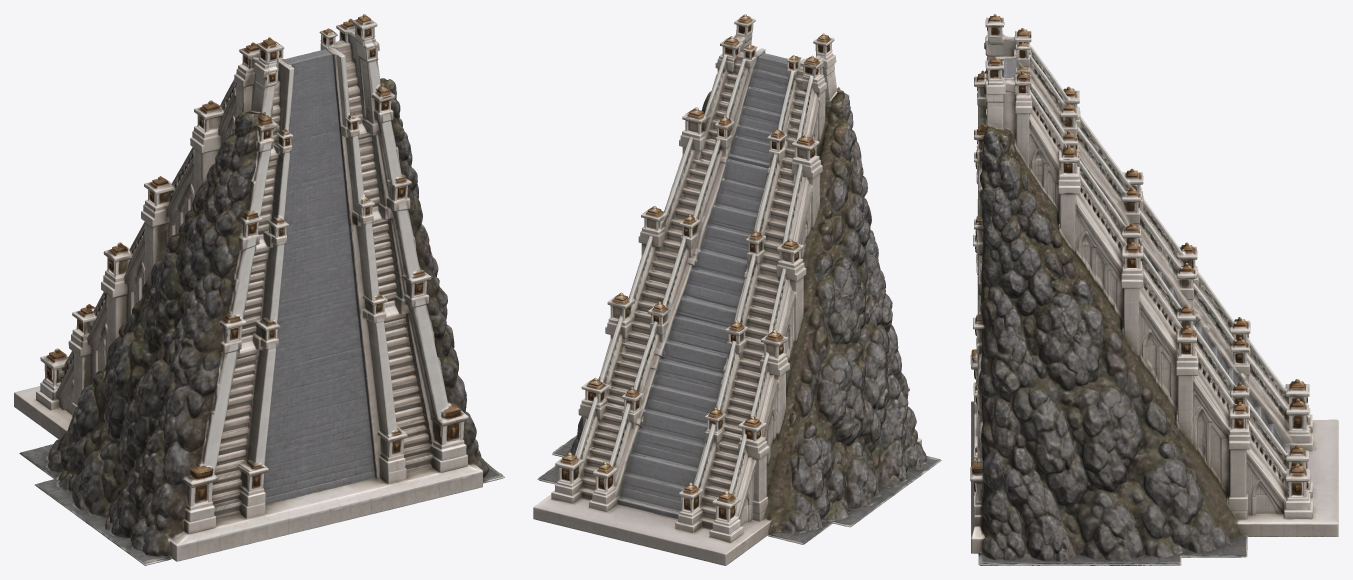
Rendered from stair_bridge.glb.
The picture shows the model from 3 angles, left to right: view 1: azimuth 30°, elevation 25°; view 2: azimuth 150°, elevation 25°; view 3: azimuth 270°, elevation 25°; orthographic projection. The views are drawn at different scales.
Bounding box in the file's own units: 0.7574 × 0.9828 × 0.7281.
1 material, 1 textured.
